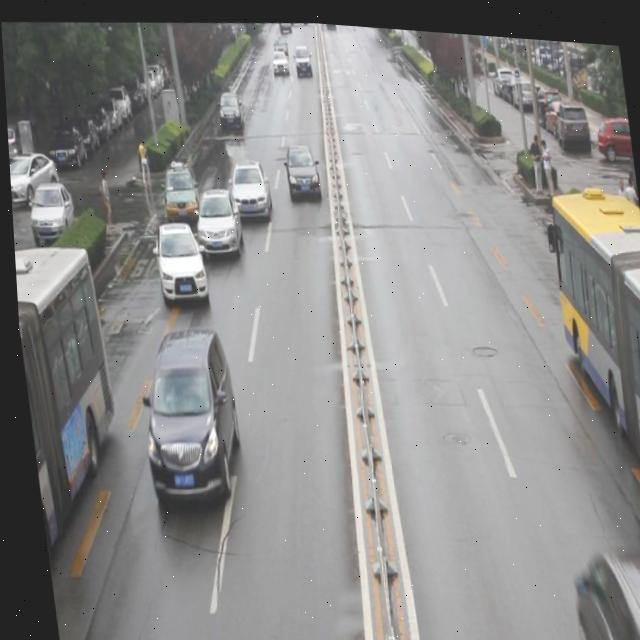car: (128, 326, 243, 511), (562, 539, 640, 640), (147, 216, 206, 309), (187, 181, 241, 255), (157, 155, 202, 231), (224, 155, 269, 218), (279, 139, 319, 197)
van: (11, 242, 132, 587), (537, 187, 640, 546)
